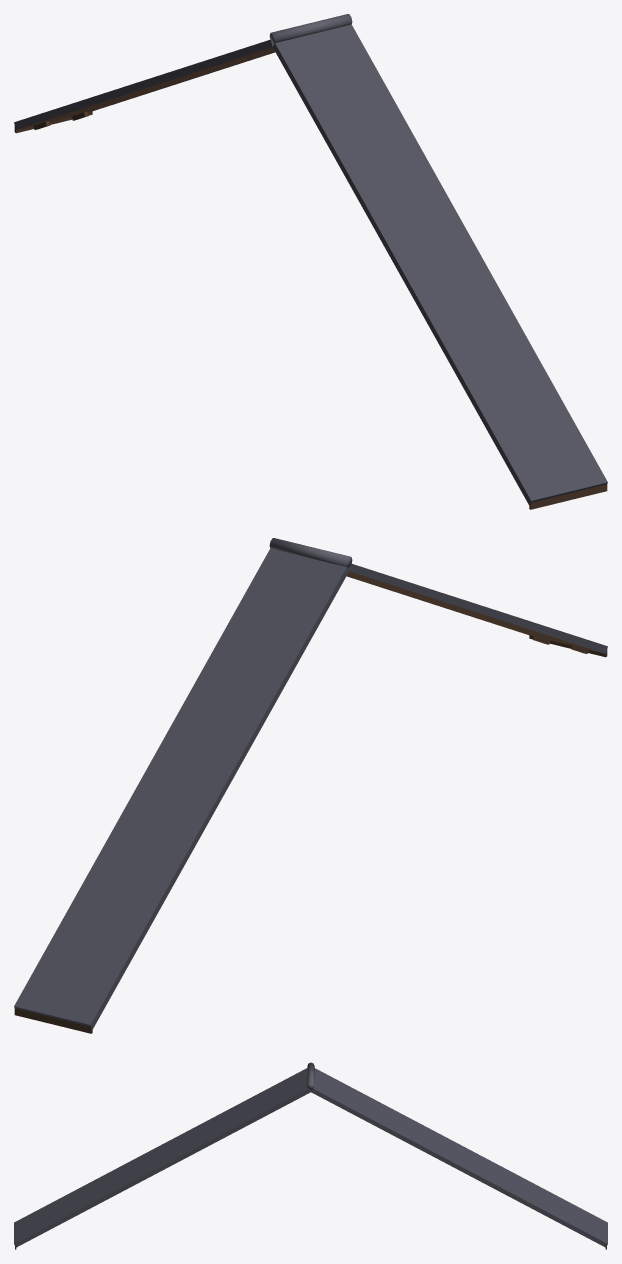
Rendered from kit_timber_slate_w11.glb.
The picture shows the model from 3 angles, top to bottom: view 1: azimuth 30°, elevation 25°; view 2: azimuth 150°, elevation 25°; view 3: azimuth 270°, elevation 25°; orthographic projection. The views are drawn at different scales.
Parts seen in each view (by area): view 1: kit_timber_slate_w11; view 2: kit_timber_slate_w11; view 3: kit_timber_slate_w11.
Part boxes in pixels (x1,y1,x2,y2): kit_timber_slate_w11: [14, 14, 607, 509]; kit_timber_slate_w11: [14, 538, 607, 1033]; kit_timber_slate_w11: [14, 1062, 607, 1249].
Bounding box in the file's own units: 1 × 3.6 × 11.69.
